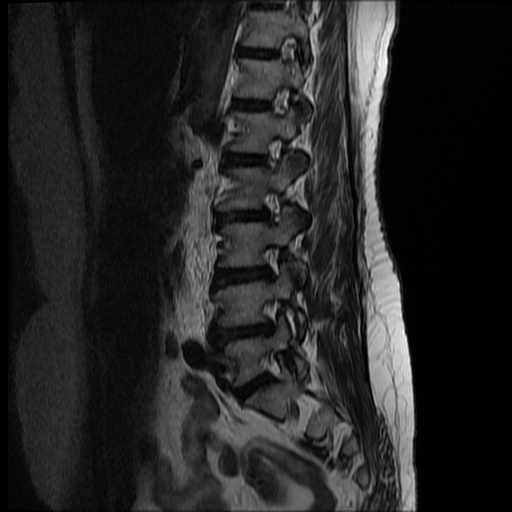LFS0: (252, 233, 296, 288), (250, 344, 297, 392), (250, 178, 291, 228), (249, 293, 292, 340), (253, 126, 291, 176)
